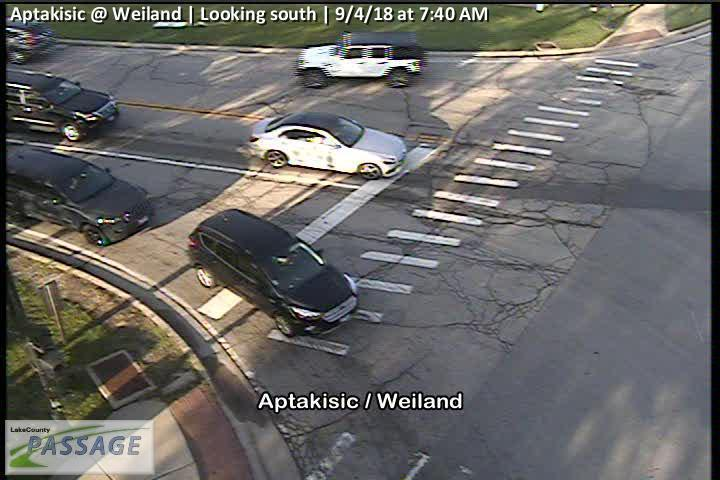Sedan: (187, 208, 359, 338), (1, 144, 154, 249), (248, 109, 407, 180), (1, 66, 118, 142)
Truck: (296, 43, 422, 88)
